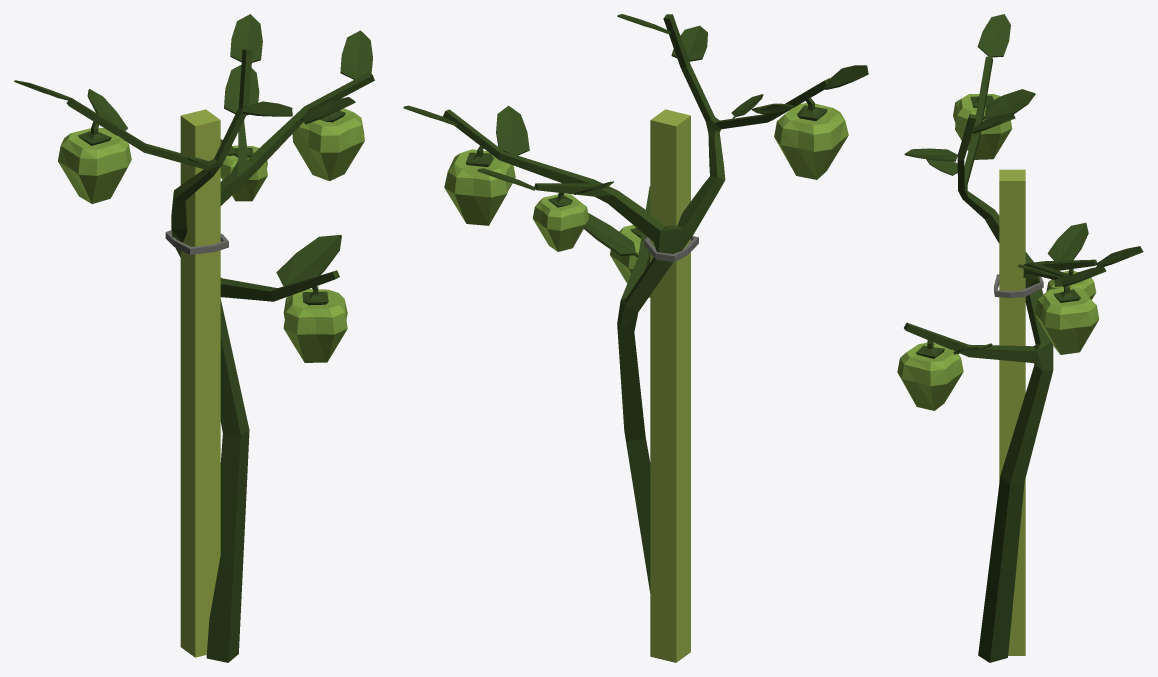
The model's file is PepperPlant_02.fbx.
3 renders of one model, left to right at view 1: azimuth 30°, elevation 25°; view 2: azimuth 150°, elevation 25°; view 3: azimuth 270°, elevation 25°, orthographic. The views are drawn at different scales.
Parts seen in each view (by area): view 1: PepperPlant_02; view 2: PepperPlant_02; view 3: PepperPlant_02.
Part boxes in pixels (x1,y1,x2,y2): PepperPlant_02: [14, 14, 374, 662]; PepperPlant_02: [403, 14, 868, 662]; PepperPlant_02: [897, 14, 1143, 662].
Size of the model in its own units: 0.6228 by 0.9133 by 0.3659.
